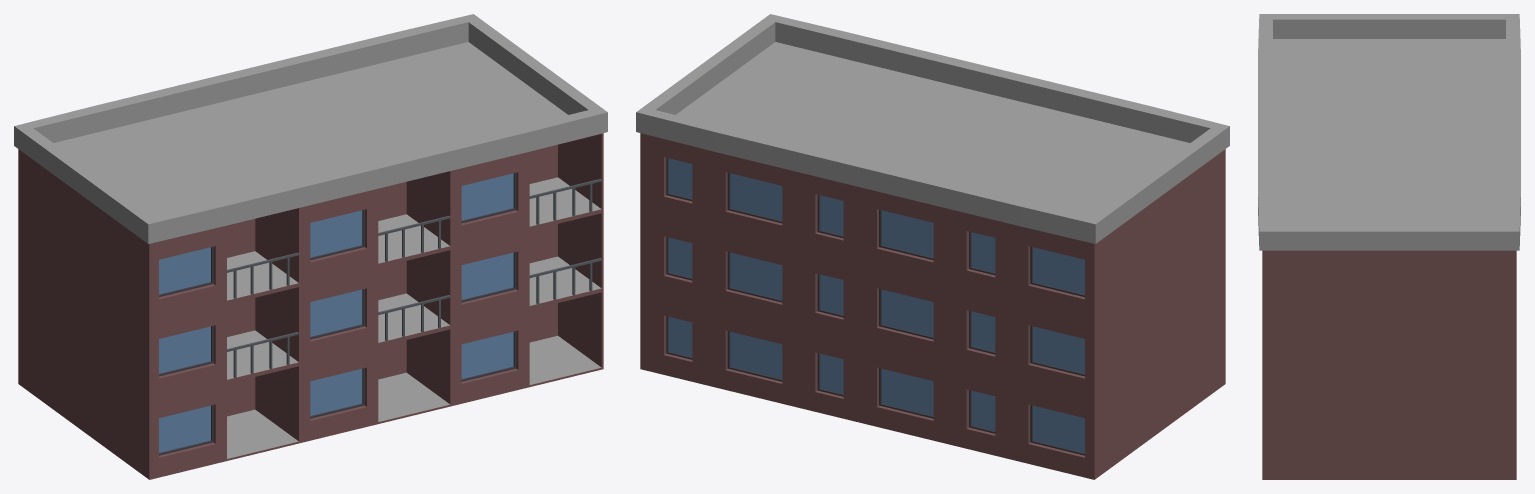
Rendered from cb_Building_5_A.glb.
3 views of the same model, side by side, from view 1: azimuth 30°, elevation 25°; view 2: azimuth 150°, elevation 25°; view 3: azimuth 270°, elevation 25° (orthographic). The views are drawn at different scales.
Visible parts, largest first — view 1: Building 5 A; view 2: Building 5 A; view 3: Building 5 A.
Part boxes in pixels (x1=…): Building 5 A: x1=14, y1=14, x2=607, y2=479; Building 5 A: x1=636, y1=14, x2=1229, y2=479; Building 5 A: x1=1258, y1=14, x2=1520, y2=479.
Size of the model in its own units: 24.28 by 13 by 12.4.
Materials: 1 (1 with a texture image).
